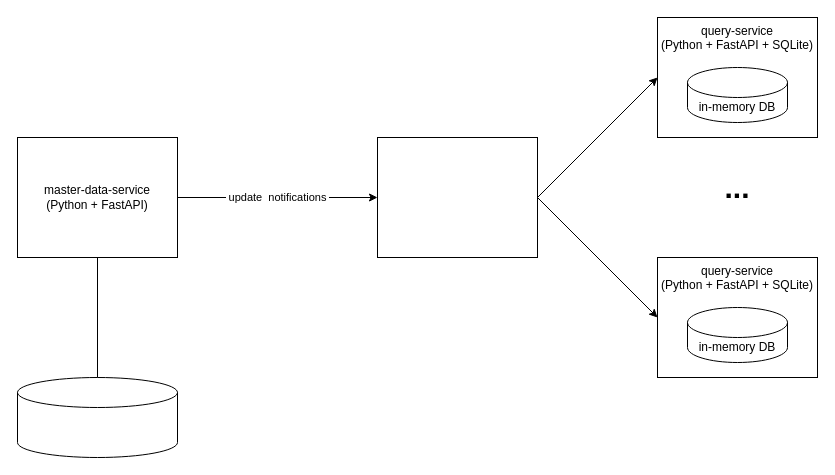
This 835x475 diagram has some shape labels left out. The box of each missing label's shape, as (x1, y1, x2, y2) in pixels:
RDBMS: (16, 376, 178, 458)
Redis pub-sub: (376, 136, 538, 258)
